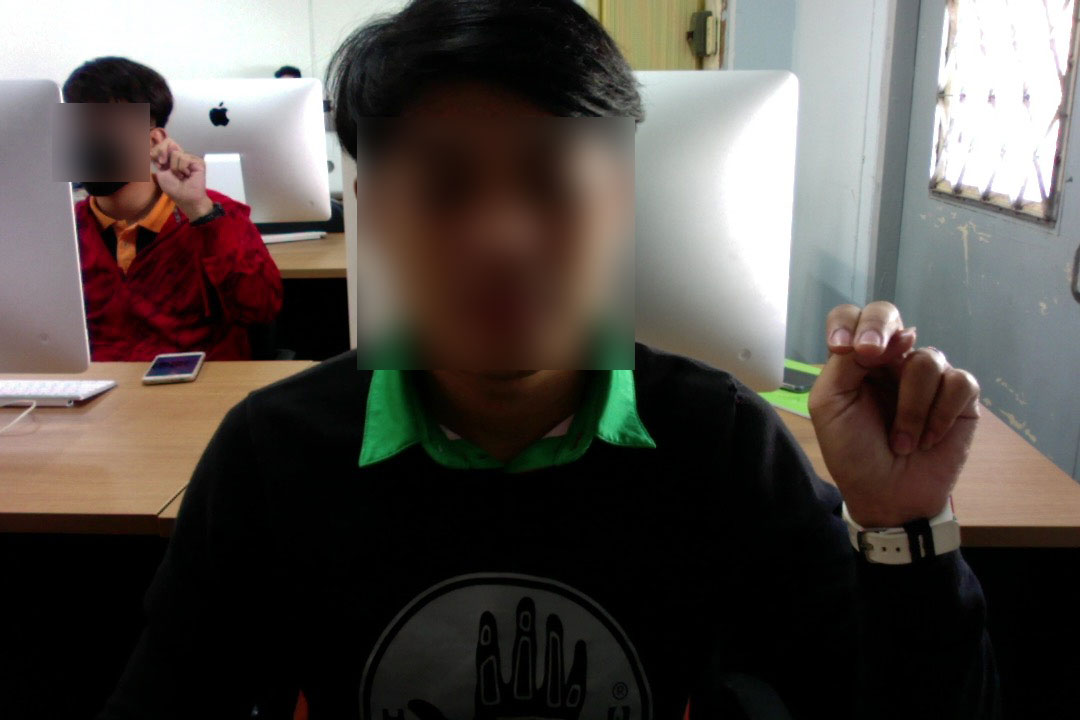nor: (802, 296, 984, 512)
